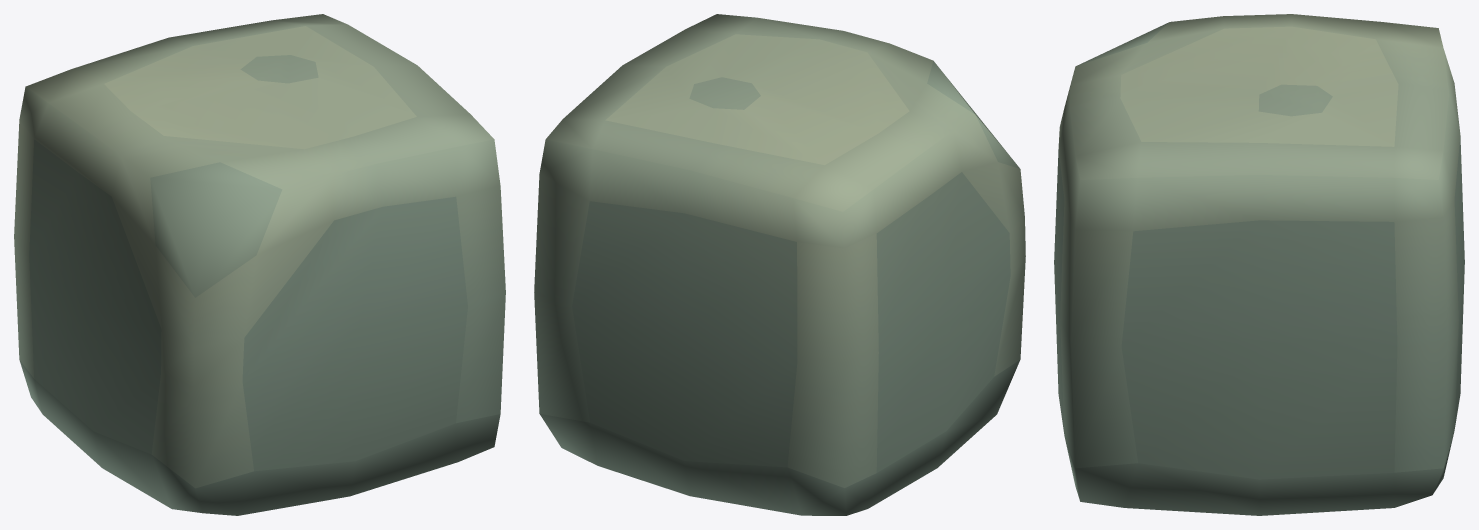
The model's file is block_stone1_2_half_LOD_group.fbx.
The picture shows the model from 3 angles, left to right: view 1: azimuth 30°, elevation 25°; view 2: azimuth 150°, elevation 25°; view 3: azimuth 270°, elevation 25°; orthographic projection. The views are drawn at different scales.
Visible parts, largest first — view 1: block_stone1_2_half_LOD0; view 2: block_stone1_2_half_LOD0; view 3: block_stone1_2_half_LOD0.
Part boxes in pixels (box(x1,y1,x2,y2)): block_stone1_2_half_LOD0: box(14, 14, 505, 515); block_stone1_2_half_LOD0: box(534, 14, 1025, 515); block_stone1_2_half_LOD0: box(1054, 14, 1464, 515).
Size of what is drawn, in the model's own units: 58.32 by 58.07 by 58.29.
1 material, 1 textured.
